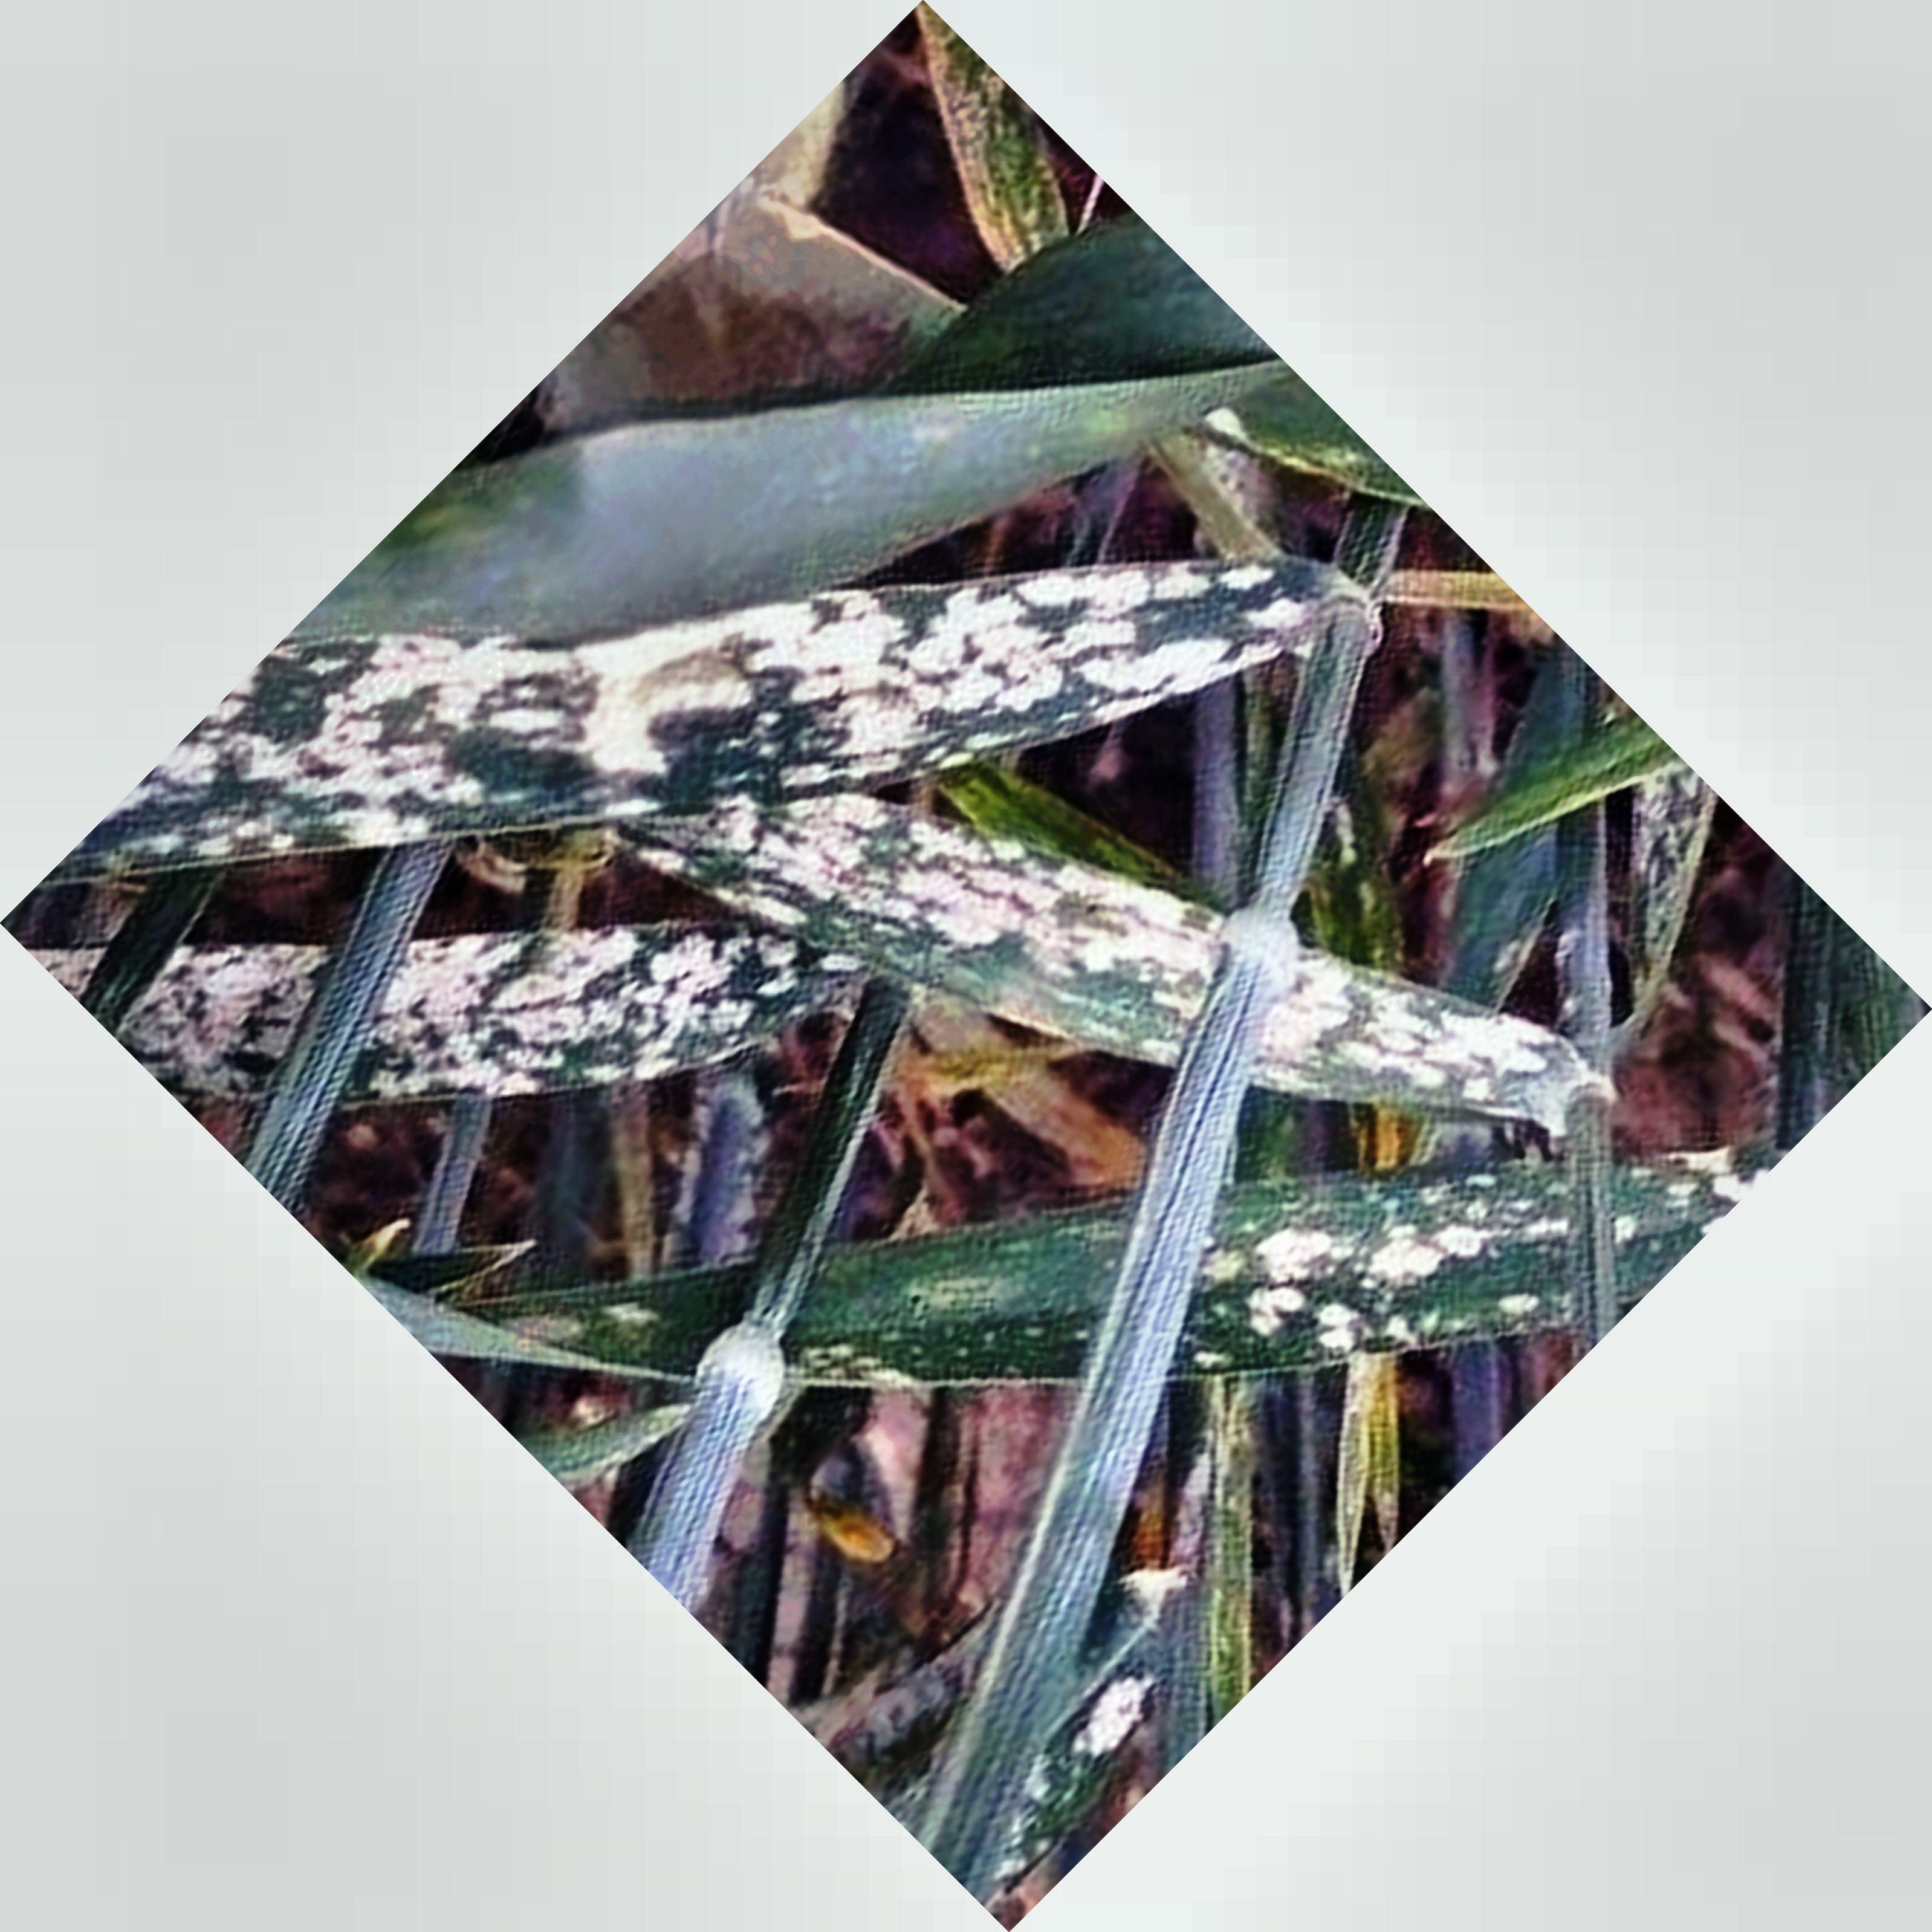Powdery Mildew: (142, 575, 1203, 816), (370, 901, 794, 1081), (1187, 1177, 1610, 1352)
